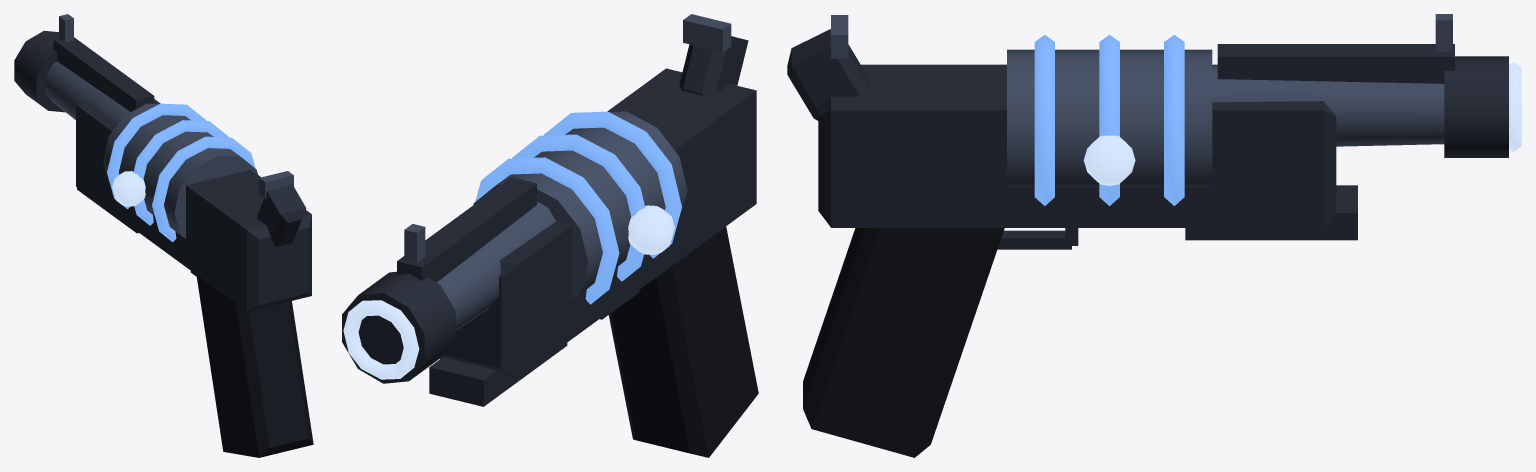
File: weapon_nova_hand.glb
3 renders of one model, left to right at view 1: azimuth 30°, elevation 25°; view 2: azimuth 150°, elevation 25°; view 3: azimuth 270°, elevation 25°, orthographic. The views are drawn at different scales.
Visible parts, largest first — view 1: weapon_nova_hand; view 2: weapon_nova_hand; view 3: weapon_nova_hand.
Part boxes in pixels (x1=…): weapon_nova_hand: x1=14, y1=14, x2=313, y2=457; weapon_nova_hand: x1=342, y1=14, x2=758, y2=457; weapon_nova_hand: x1=787, y1=14, x2=1521, y2=457.
Bounding box in the file's own units: 0.106 × 0.2155 × 0.3401.
